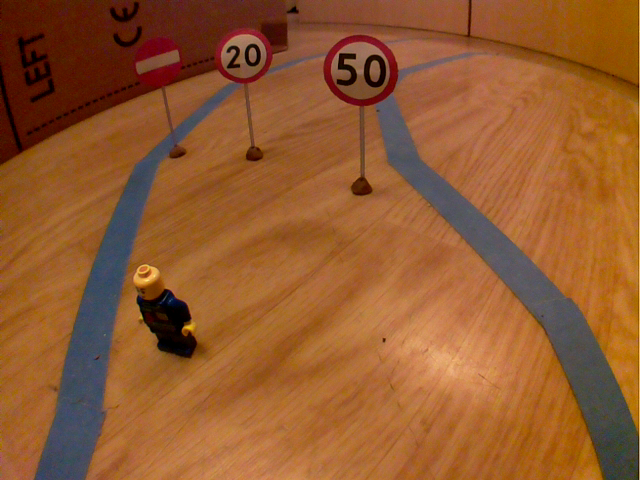Ograniczenie 20: (212, 24, 276, 87)
Ograniczenie 50: (319, 30, 403, 112)
Postac LEGO: (124, 257, 209, 369)
Zakaz: (127, 31, 187, 91)
